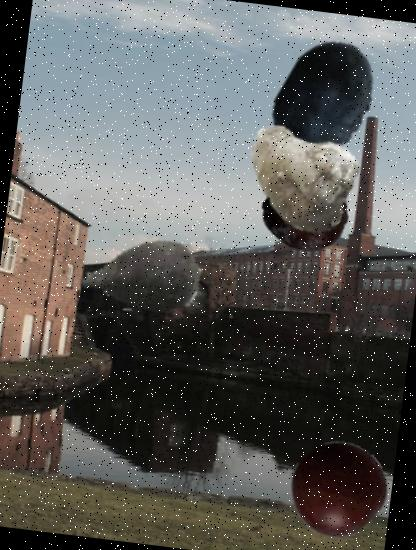Beetroot: (70, 208, 214, 350)
Blueberry: (254, 31, 394, 171)
Cherry: (284, 435, 392, 542)
Ginger: (236, 104, 373, 241)
Plum: (256, 163, 353, 260)
